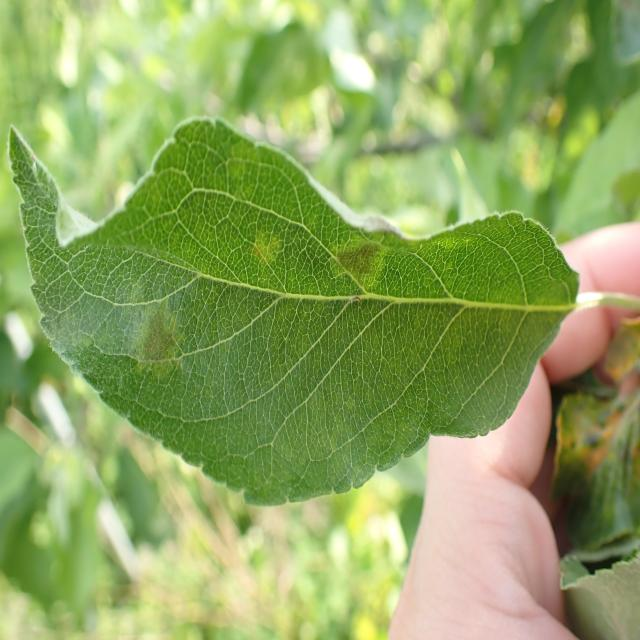scab: (53, 158, 482, 460)
